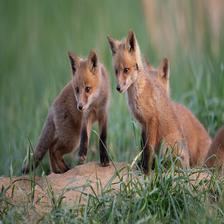fox: (105, 32, 191, 183), (20, 47, 114, 182)
